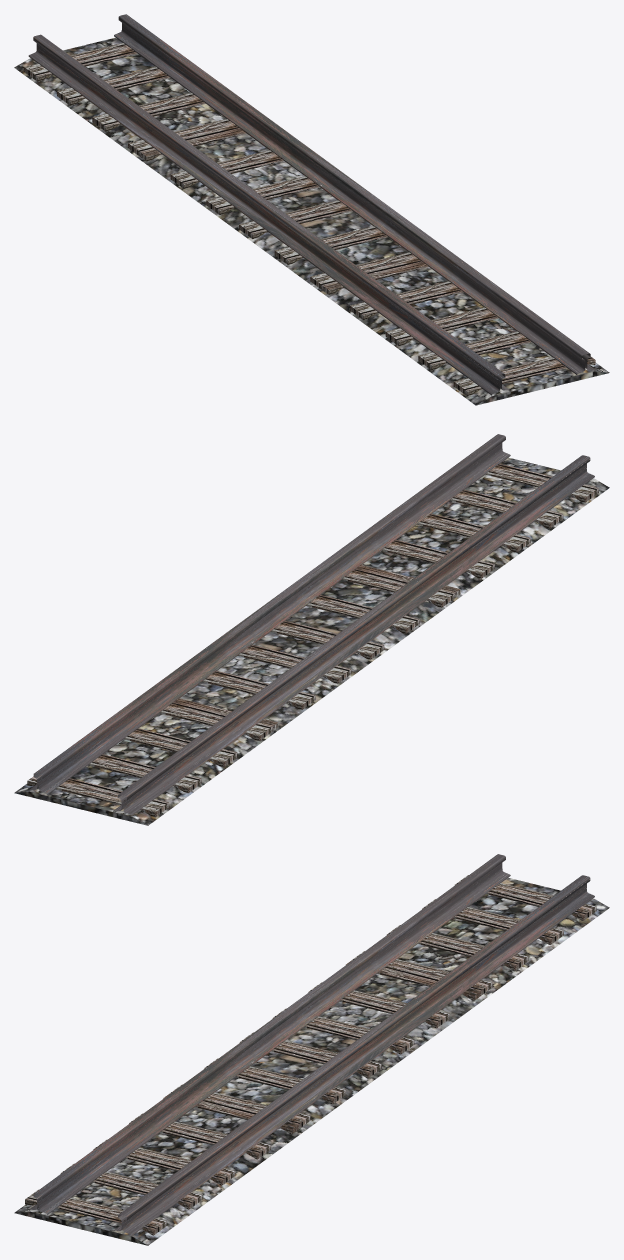
File: rails.obj
3 renders of one model, top to bottom at view 1: azimuth 30°, elevation 25°; view 2: azimuth 150°, elevation 25°; view 3: azimuth 330°, elevation 25°, orthographic.
Parts seen in each view (by area): view 1: box.005_ID643; view 2: box.005_ID643; view 3: box.005_ID643.
Boxes of the visible parts, x1=… form: box.005_ID643: x1=14, y1=14, x2=609, y2=405; box.005_ID643: x1=14, y1=434, x2=609, y2=825; box.005_ID643: x1=14, y1=854, x2=609, y2=1245.
Bounding box in the file's own units: 2 × 0.3623 × 11.98.
Materials: 3 (3 with a texture image).
